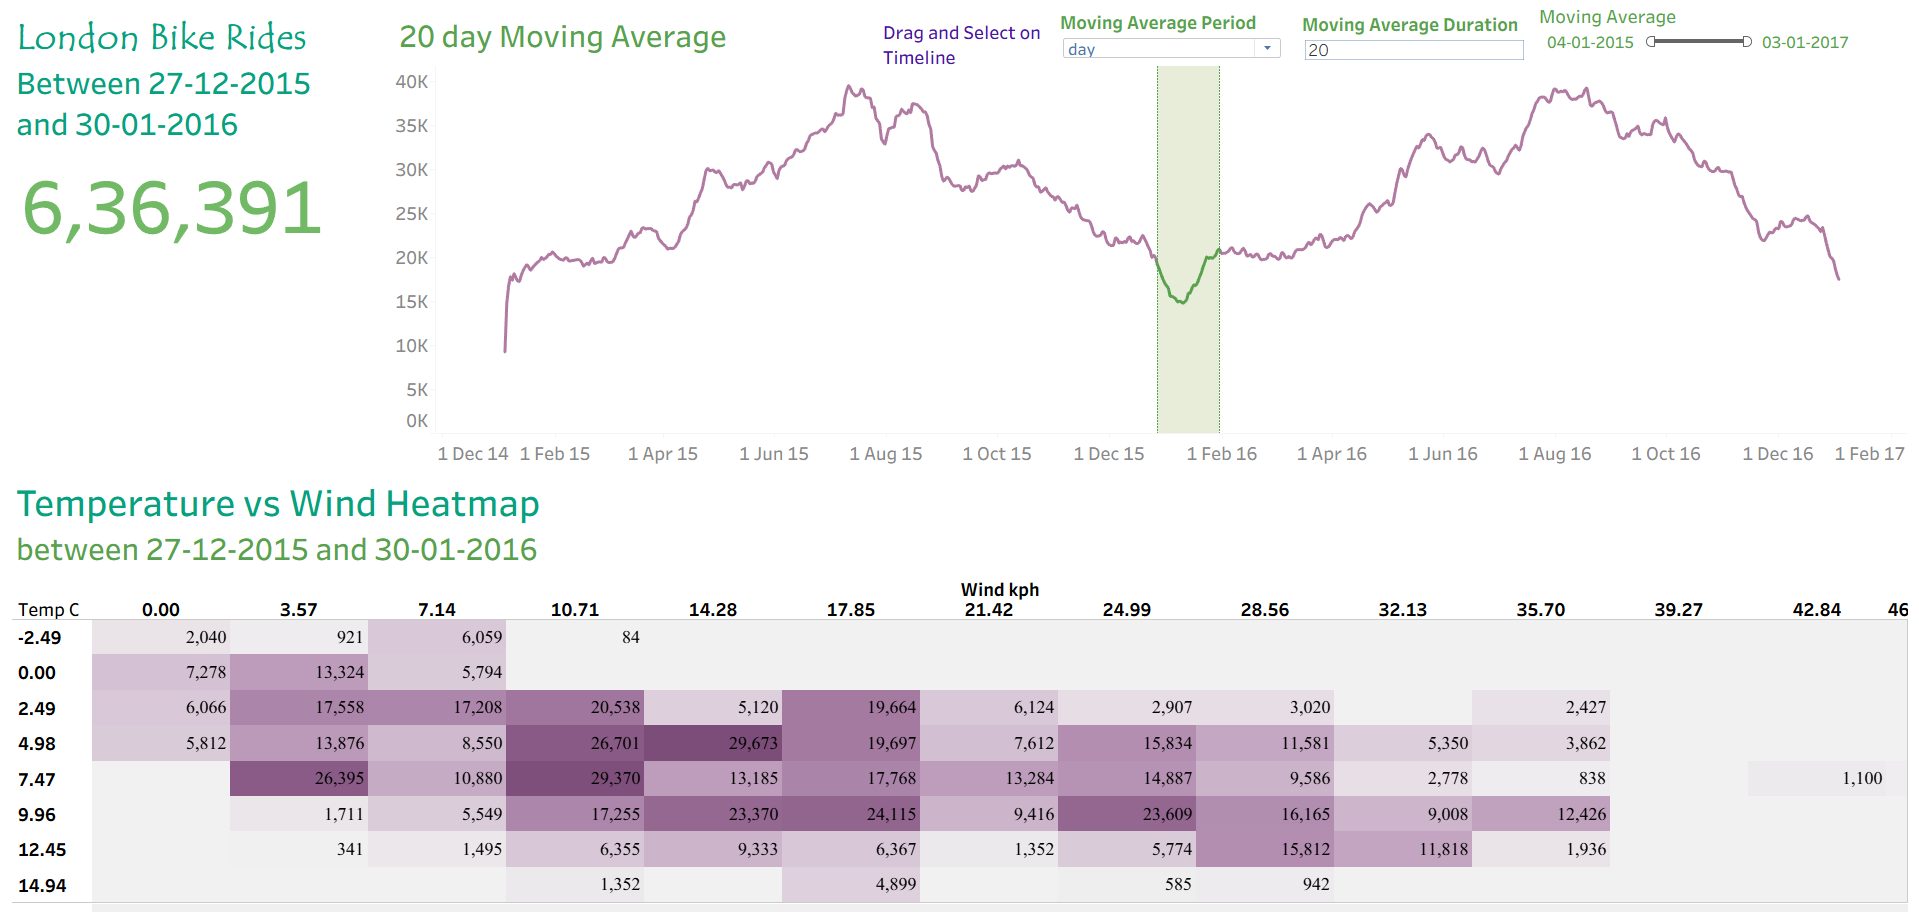

The dashboard page shown, as its layout file describes it:
{"tool":"tableau","page":{"name":"Dashboard 1","canvas":[1000,1000],"units":"permille","ordinal":0},"visuals":[{"type":"filter","title":"Moving Average","param":"[federated.05p1smv0nfjs9216mpn9709598mb].[none:Calculation_603200923469152256:qk","box":[801.8,4.9,166.8,83.1]},{"type":"worksheet","title":"Total Rides","mark":"Automatic","box":[4.2,9.8,199.2,490.2]},{"type":"worksheet","title":"Moving Average","mark":"Automatic","rows":["Calculation1"],"cols":["Calculation_603200923469152256"],"box":[203.5,9.8,792.3,490.2]},{"type":"parameter","param":"[Parameters].[Parameter 1]","box":[552.1,12.2,116.9,68.5]},{"type":"parameter","param":"[Parameters].[Parameter 2]","box":[678,13.5,117.4,68.5]},{"type":"text","box":[457.6,18.3,109.7,62.4]},{"type":"worksheet","title":"Heat Map","mark":"Square","rows":["temp real C (bin)"],"cols":["Wind Kph (bin)"],"box":[4.2,500,991.5,490.2]}]}

Visuals, with their boxes on the dashboard's canvas, which has no fixed pixel size, in thousandths of its width and height (x1, y1, x2, y2). These are canvas units, not pixel positions in the 1919x912 screenshot, which may show the page scaled, cropped or inside an application window:
"Moving Average" filter: [left=802, top=5, right=969, bottom=88]
"Total Rides" worksheet: [left=4, top=10, right=203, bottom=500]
"Moving Average" worksheet: [left=204, top=10, right=996, bottom=500]
parameter: [left=552, top=12, right=669, bottom=81]
parameter: [left=678, top=14, right=795, bottom=82]
text: [left=458, top=18, right=567, bottom=81]
"Heat Map" worksheet (Square marks): [left=4, top=500, right=996, bottom=990]
